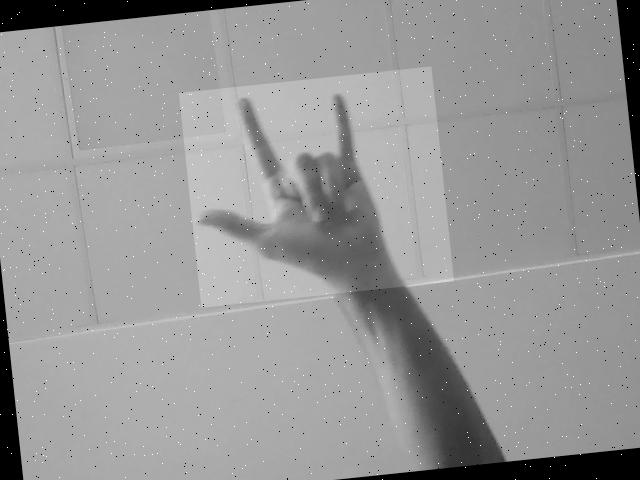I_Love_You: (179, 66, 454, 308)
